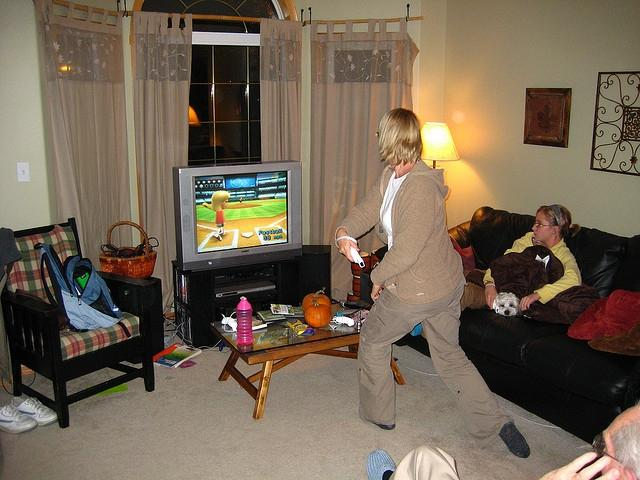pumpkin: (304, 300, 332, 328), (302, 287, 332, 313)
